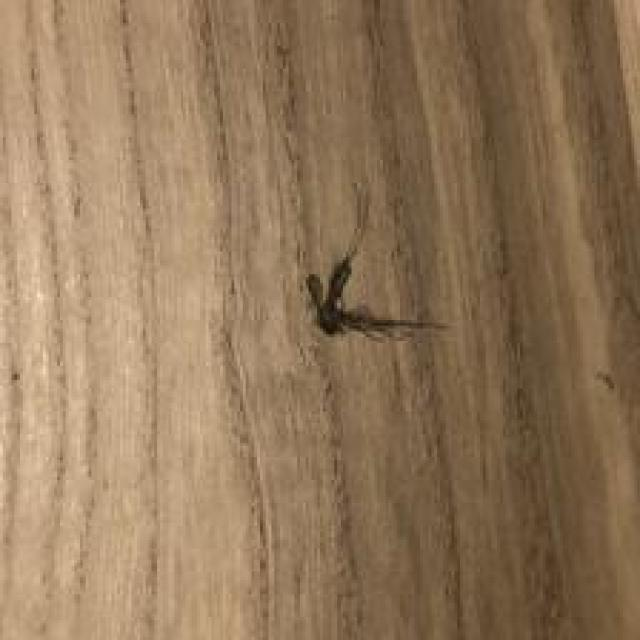Culex: (303, 183, 448, 343)
